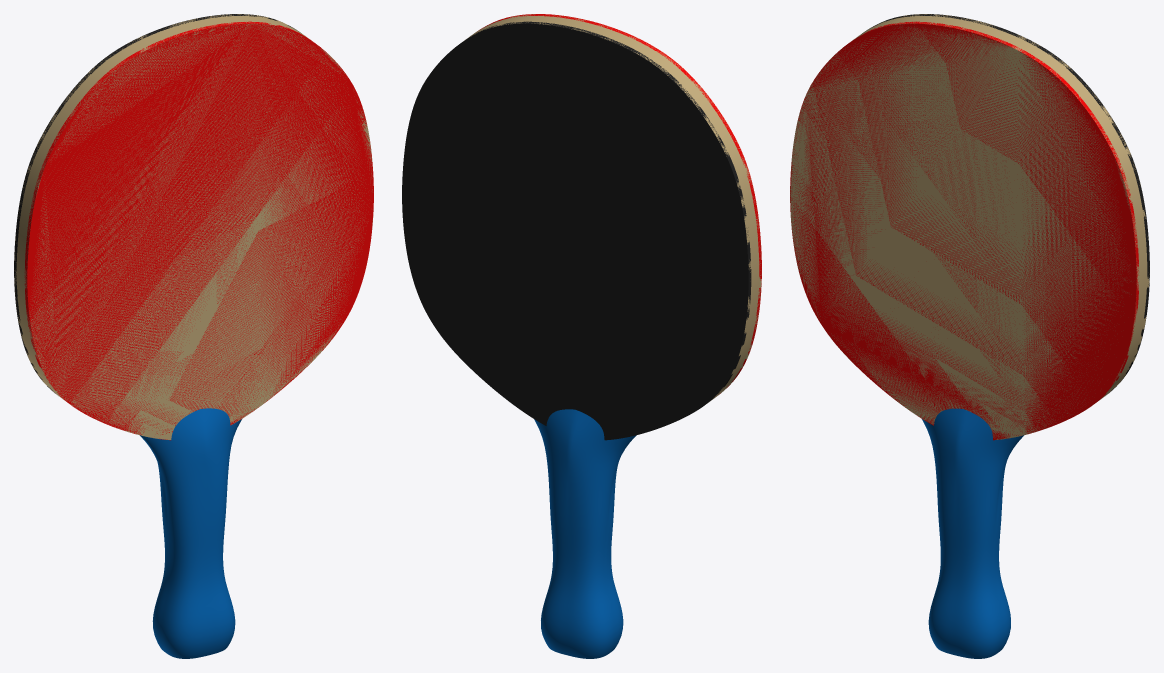
Rendered from paddle_red__2531d5a1d03f.glb.
3 renders of one model, left to right at view 1: azimuth 30°, elevation 25°; view 2: azimuth 150°, elevation 25°; view 3: azimuth 330°, elevation 25°, orthographic.
Parts seen in each view (by area): view 1: red_face, wood_edge, grip, black_face; view 2: black_face, grip, wood_edge, red_face; view 3: wood_edge, red_face, grip, black_face.
Boxes of the visible parts, x1,y1,x2,y2 form: red_face: (24, 21, 373, 440); wood_edge: (14, 14, 373, 439); grip: (140, 408, 241, 658); black_face: (14, 14, 300, 393); black_face: (402, 21, 751, 440); grip: (534, 409, 636, 658); wood_edge: (464, 14, 761, 401); red_face: (478, 14, 761, 394); wood_edge: (790, 14, 1149, 439); red_face: (790, 21, 1138, 440); grip: (922, 408, 1023, 658); black_face: (862, 14, 1149, 393).
Bounding box in the file's own units: 0.152 × 0.26 × 0.0262.
